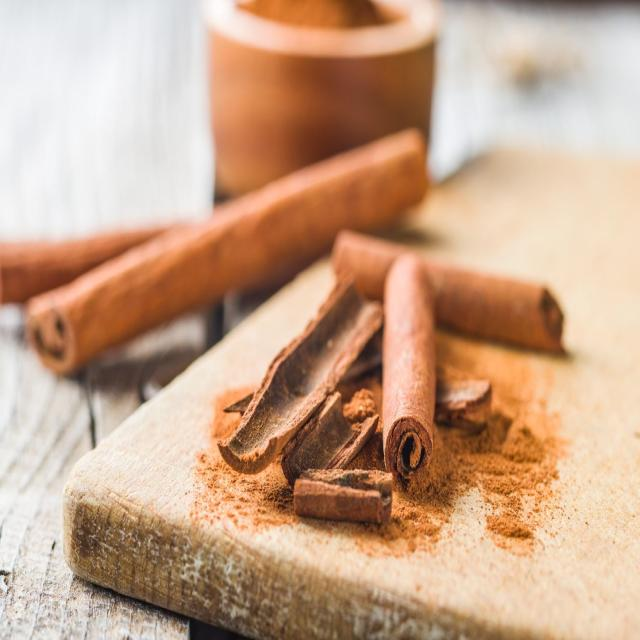Cinnamon: (28, 129, 428, 374), (219, 278, 382, 474), (421, 258, 564, 352), (0, 227, 168, 303), (382, 253, 436, 478), (332, 231, 408, 300)
